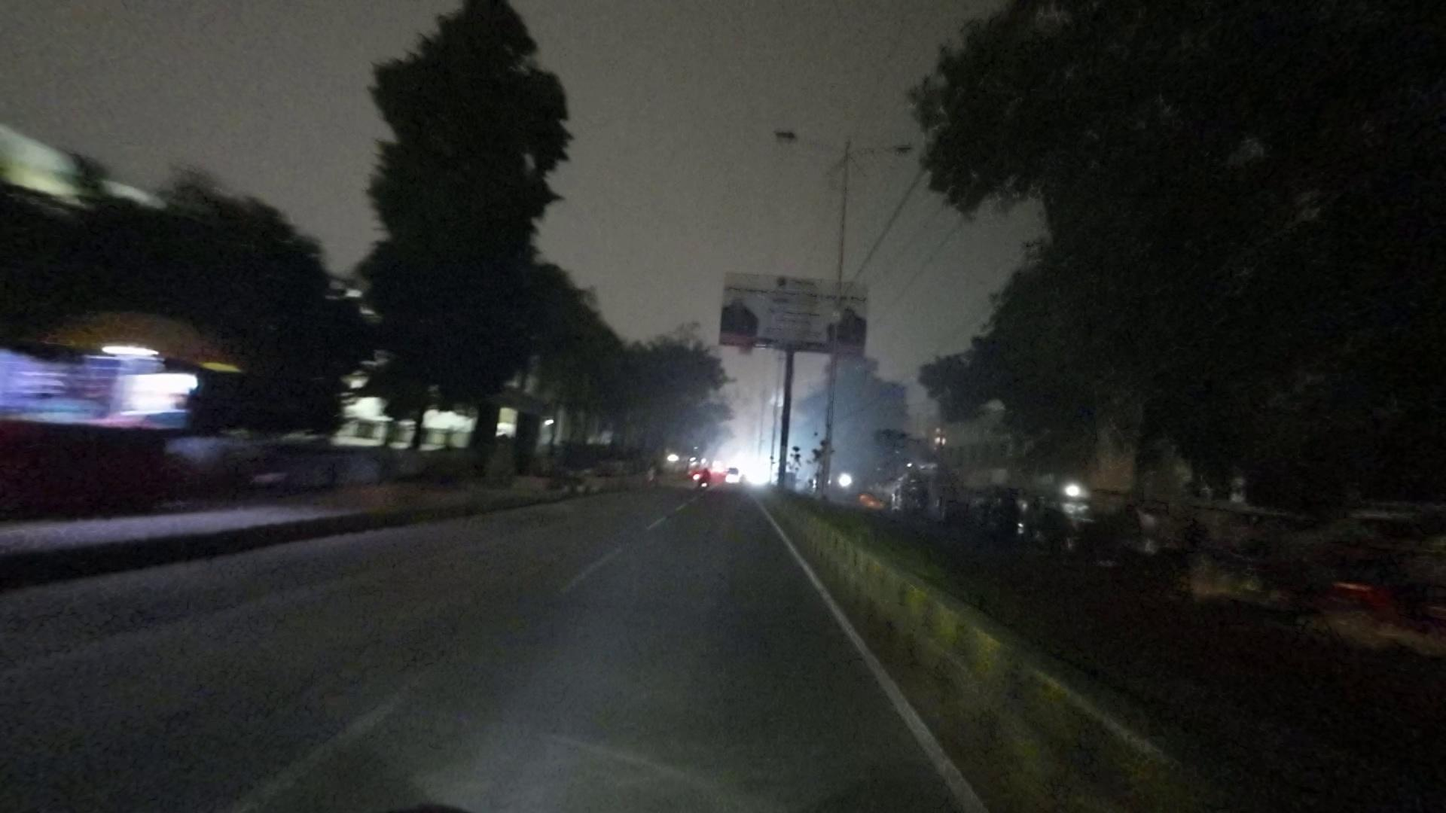streetlight: (773, 127, 843, 154), (850, 141, 916, 163)
